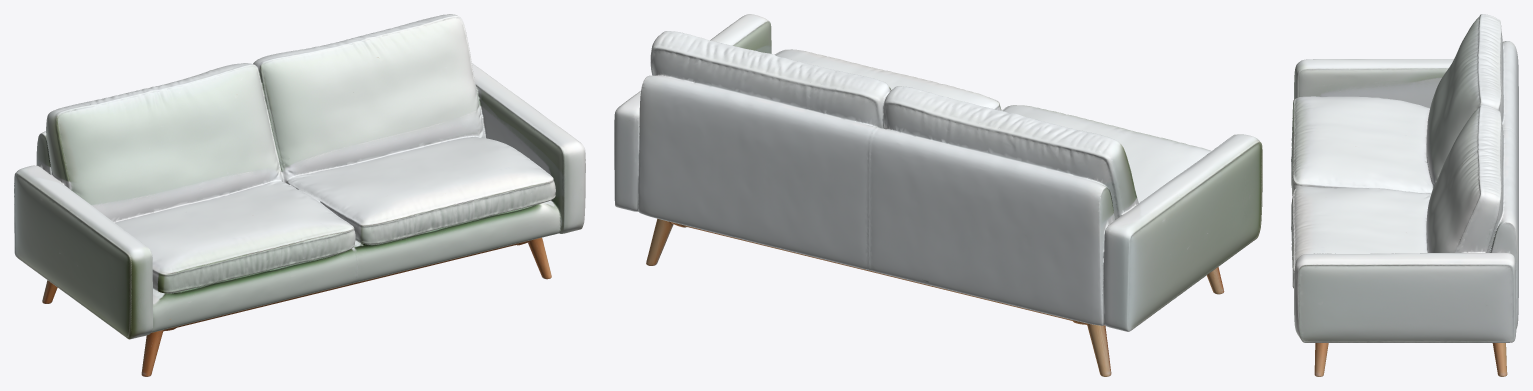
The picture shows the model from 3 angles, left to right: view 1: azimuth 30°, elevation 25°; view 2: azimuth 150°, elevation 25°; view 3: azimuth 270°, elevation 25°; orthographic projection. The views are drawn at different scales.
Parts seen in each view (by area): view 1: Mesh_0; view 2: Mesh_0; view 3: Mesh_0.
Boxes of the visible parts, x1,y1,x2,y2 form: Mesh_0: (14,14,585,376); Mesh_0: (614,14,1262,376); Mesh_0: (1291,14,1518,376).
Size of the model in its own units: 1.98 by 0.82 by 0.92.
1 material, 1 textured.
